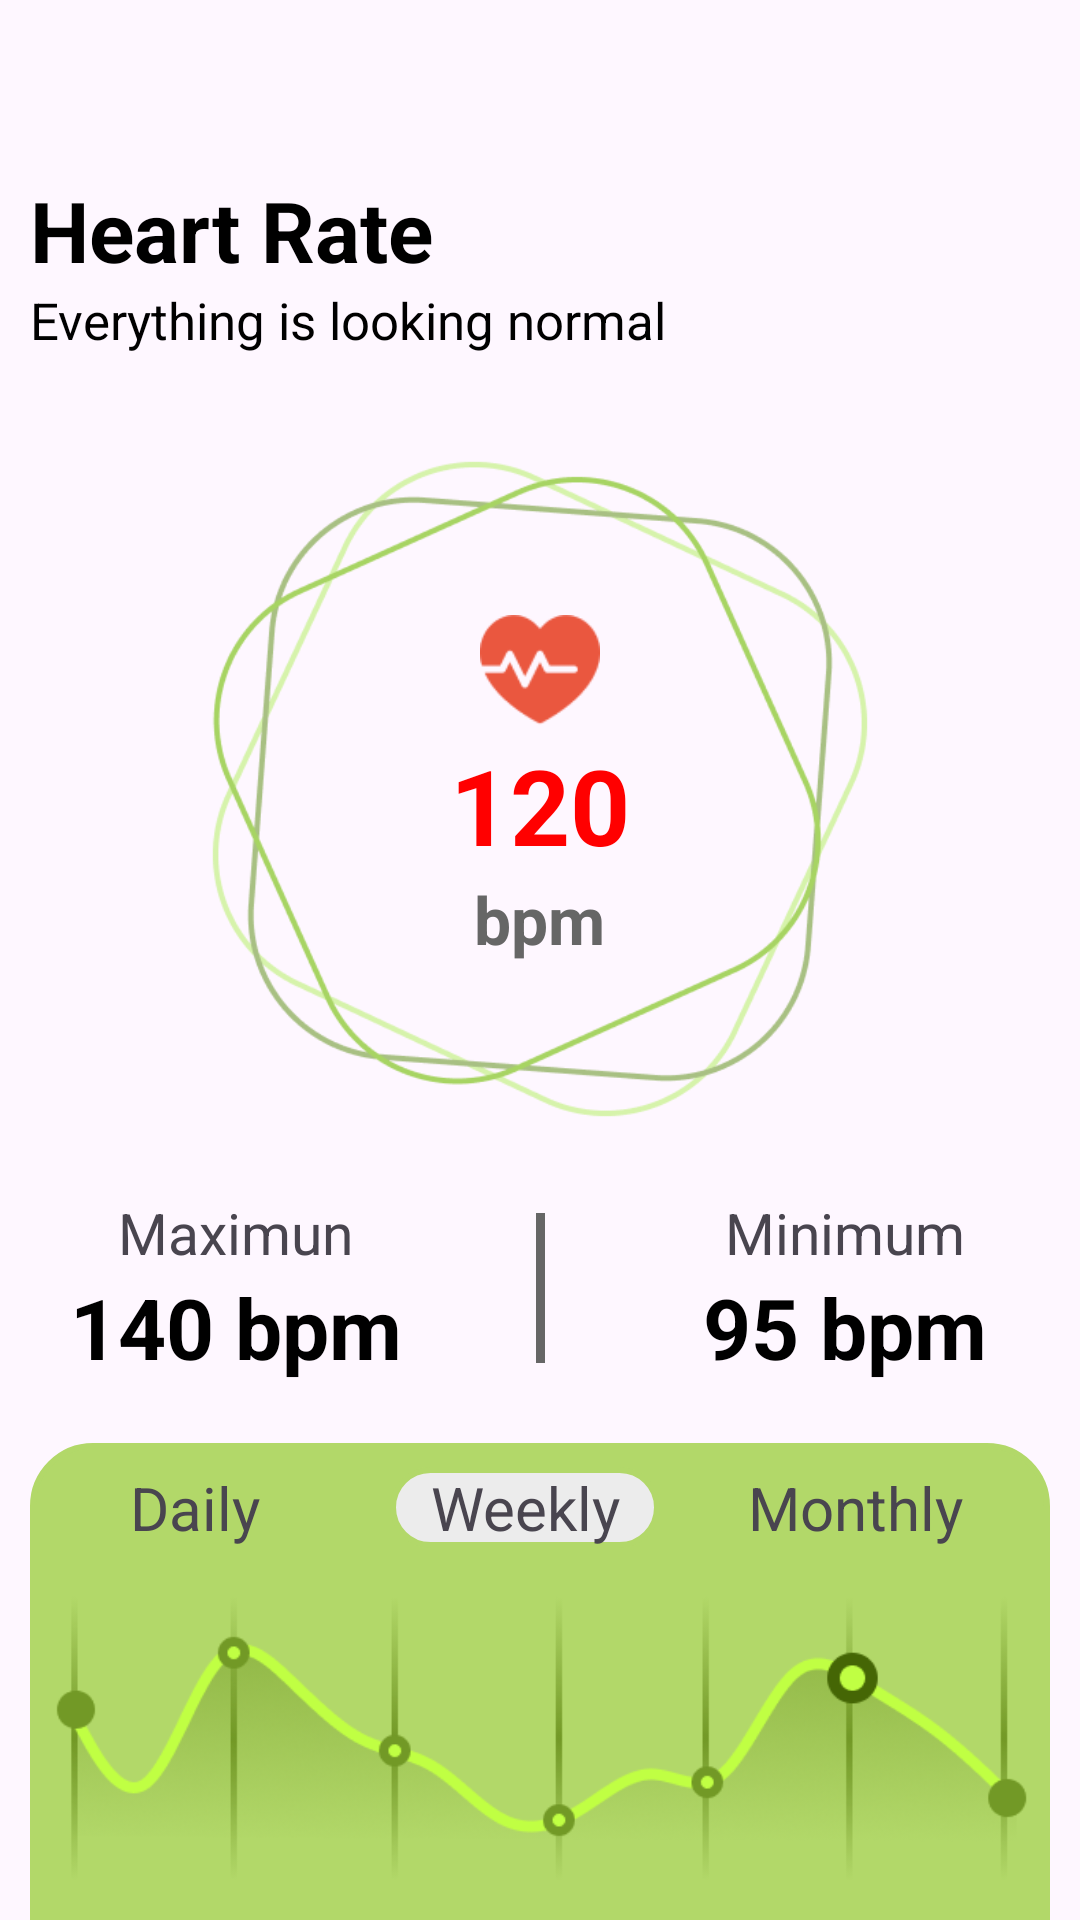

Locate icon controls on the screen. Image size 1080w x 1920h, boxes as {"left": x1, "top": y1, "right": x2, "bottom": y2}.
heart: {"left": 480, "top": 615, "right": 600, "bottom": 724}
